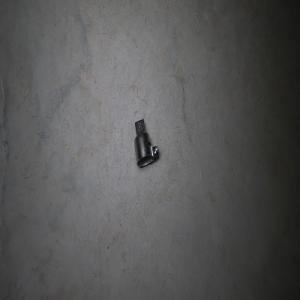MetalPart: (133, 118, 159, 167)
